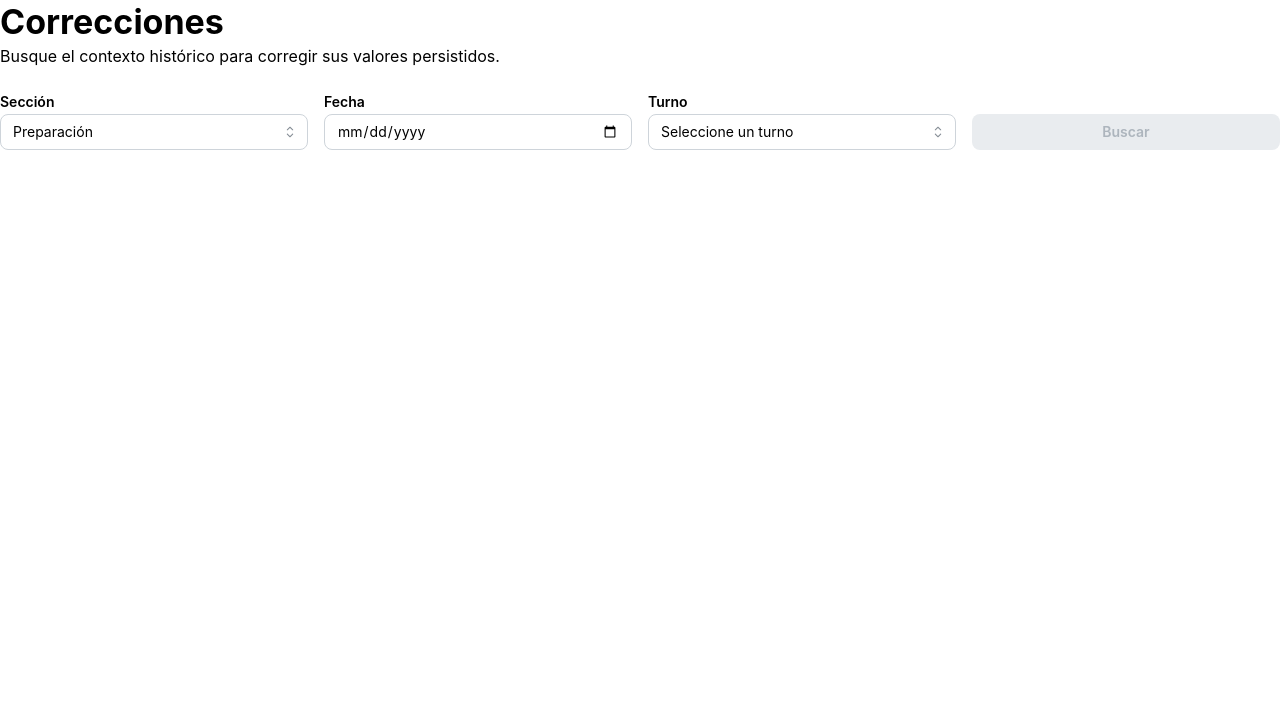
Test: CorrectionsWorkspace › gates context search and renders all applicable grids without legacy controls
Expected: the button "Buscar" is disabled, [972, 114, 1279, 150]
Select "Continuas" in the dropdown labelled "Sección": (154, 132) [0, 114, 308, 150]
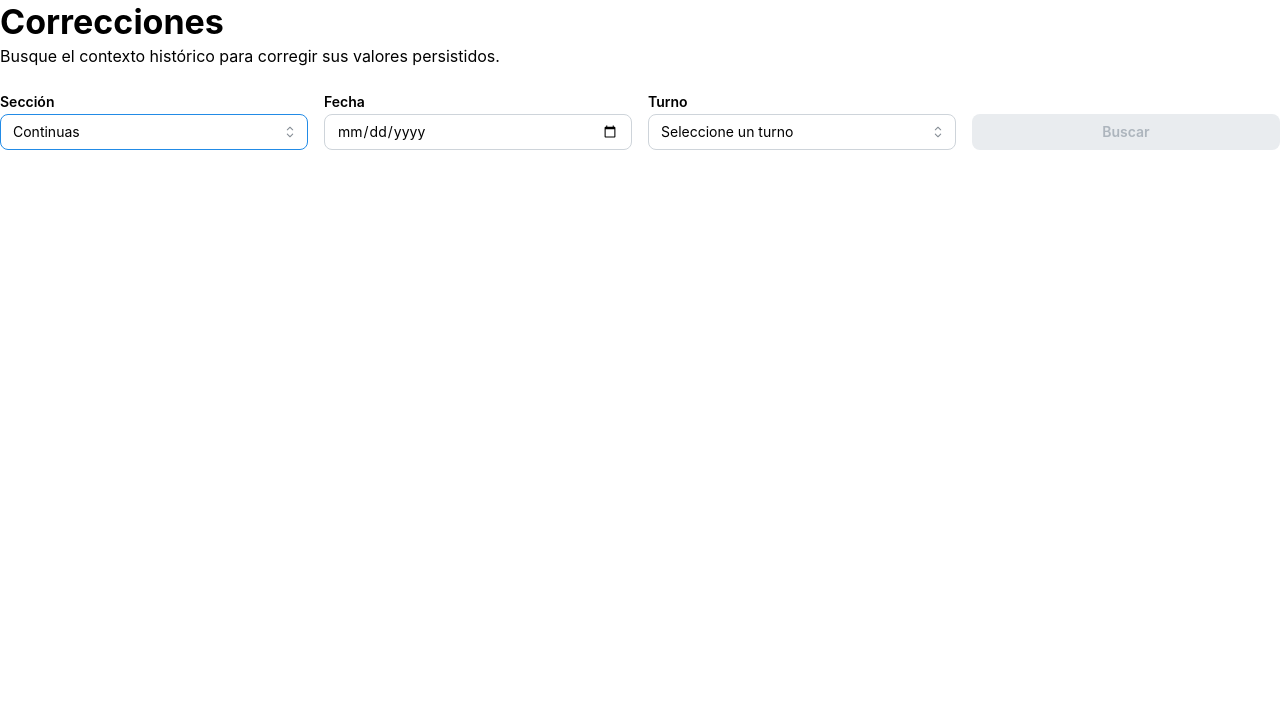
In the date field labelled "Fecha": (478, 132) [324, 114, 632, 150], type "2026-09-01"
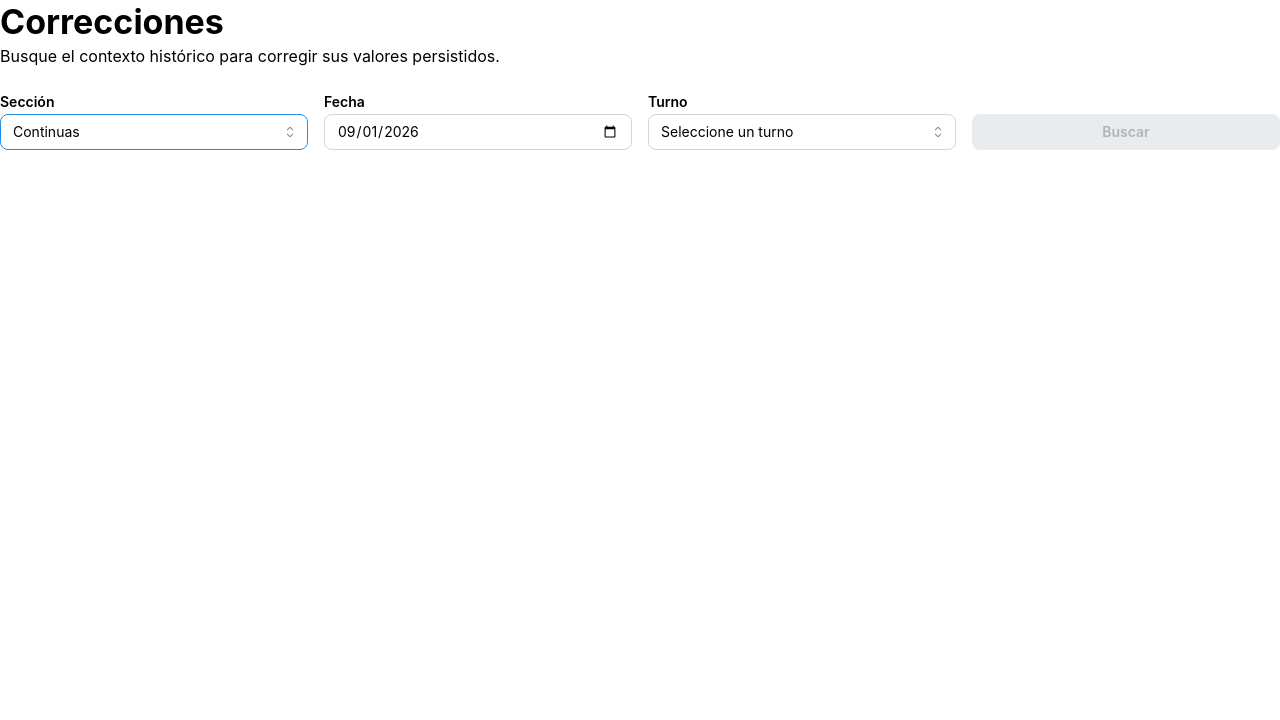
Select "Turno A" in the dropdown labelled "Turno": (802, 132) [648, 114, 956, 150]
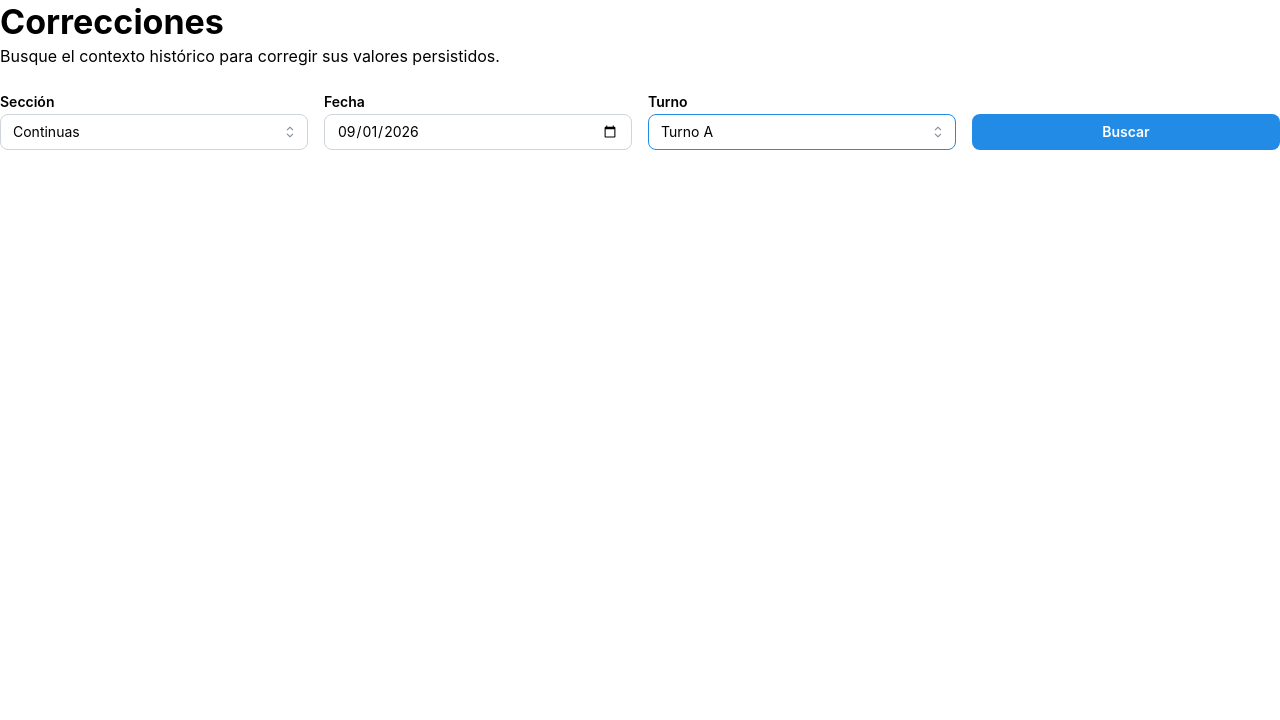
Click the button "Buscar": (1126, 132) [972, 114, 1279, 150]
(page scrolled)
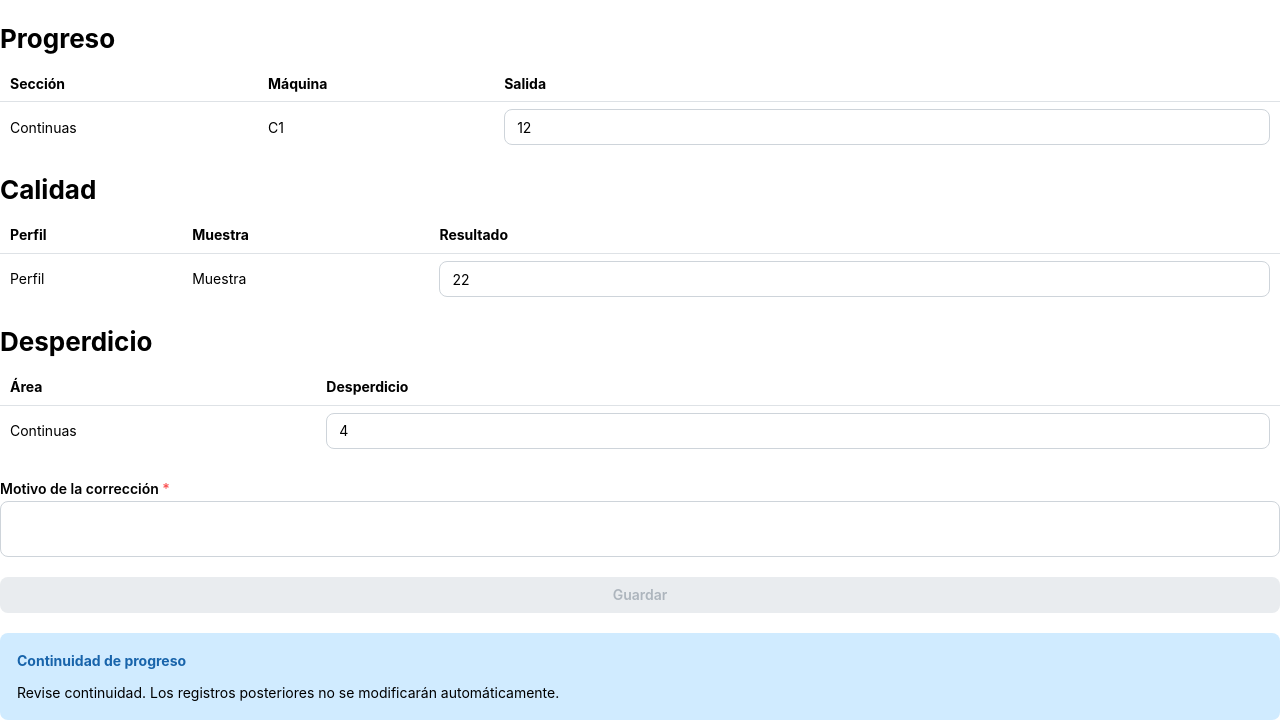
Expected: the table named "Progreso" is shown, [0, 66, 1279, 152]
Expected: the table named "Calidad" is shown, [0, 217, 1279, 304]
Expected: the table labelled "Desperdicio" is shown, [0, 369, 1279, 456]
